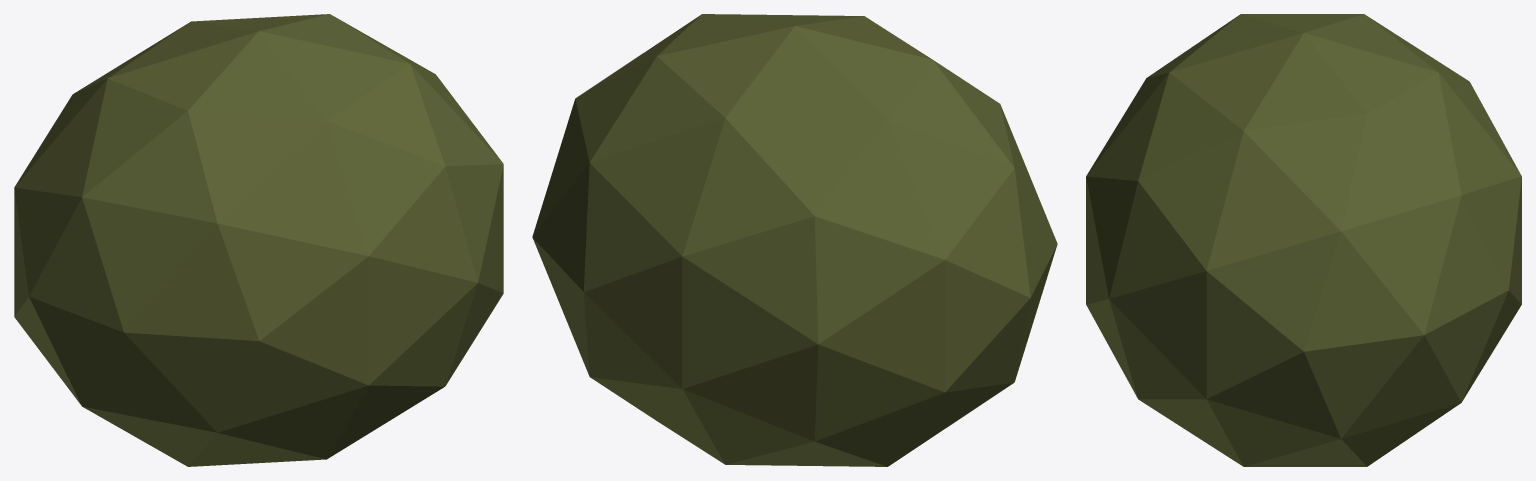
The model's file is WalnutHull.obj.
3 views of the same model, side by side, from view 1: azimuth 30°, elevation 25°; view 2: azimuth 150°, elevation 25°; view 3: azimuth 270°, elevation 25° (orthographic). The views are drawn at different scales.
Visible parts, largest first — view 1: fruit; view 2: fruit; view 3: fruit.
Boxes of the visible parts, bbox=[...] form: fruit: bbox=[14, 14, 503, 466]; fruit: bbox=[532, 14, 1057, 466]; fruit: bbox=[1086, 14, 1521, 466].
Bounding box in the file's own units: 1.15 × 1 × 0.9511.
